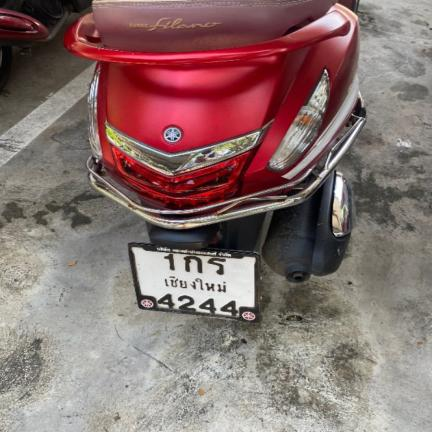1: (160, 252, 176, 271)
2: (178, 293, 197, 312)
4: (198, 294, 218, 315), (220, 296, 240, 317), (155, 291, 176, 308)
A01: (183, 256, 205, 274)
A35: (206, 255, 226, 275)
CMI: (159, 274, 228, 294)
